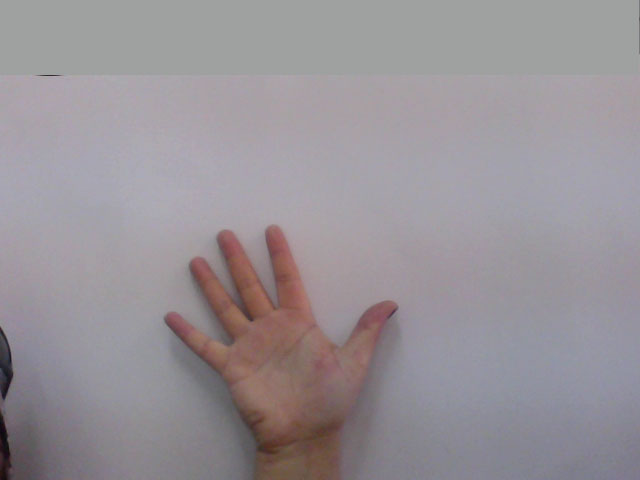hand: (156, 218, 409, 432)
